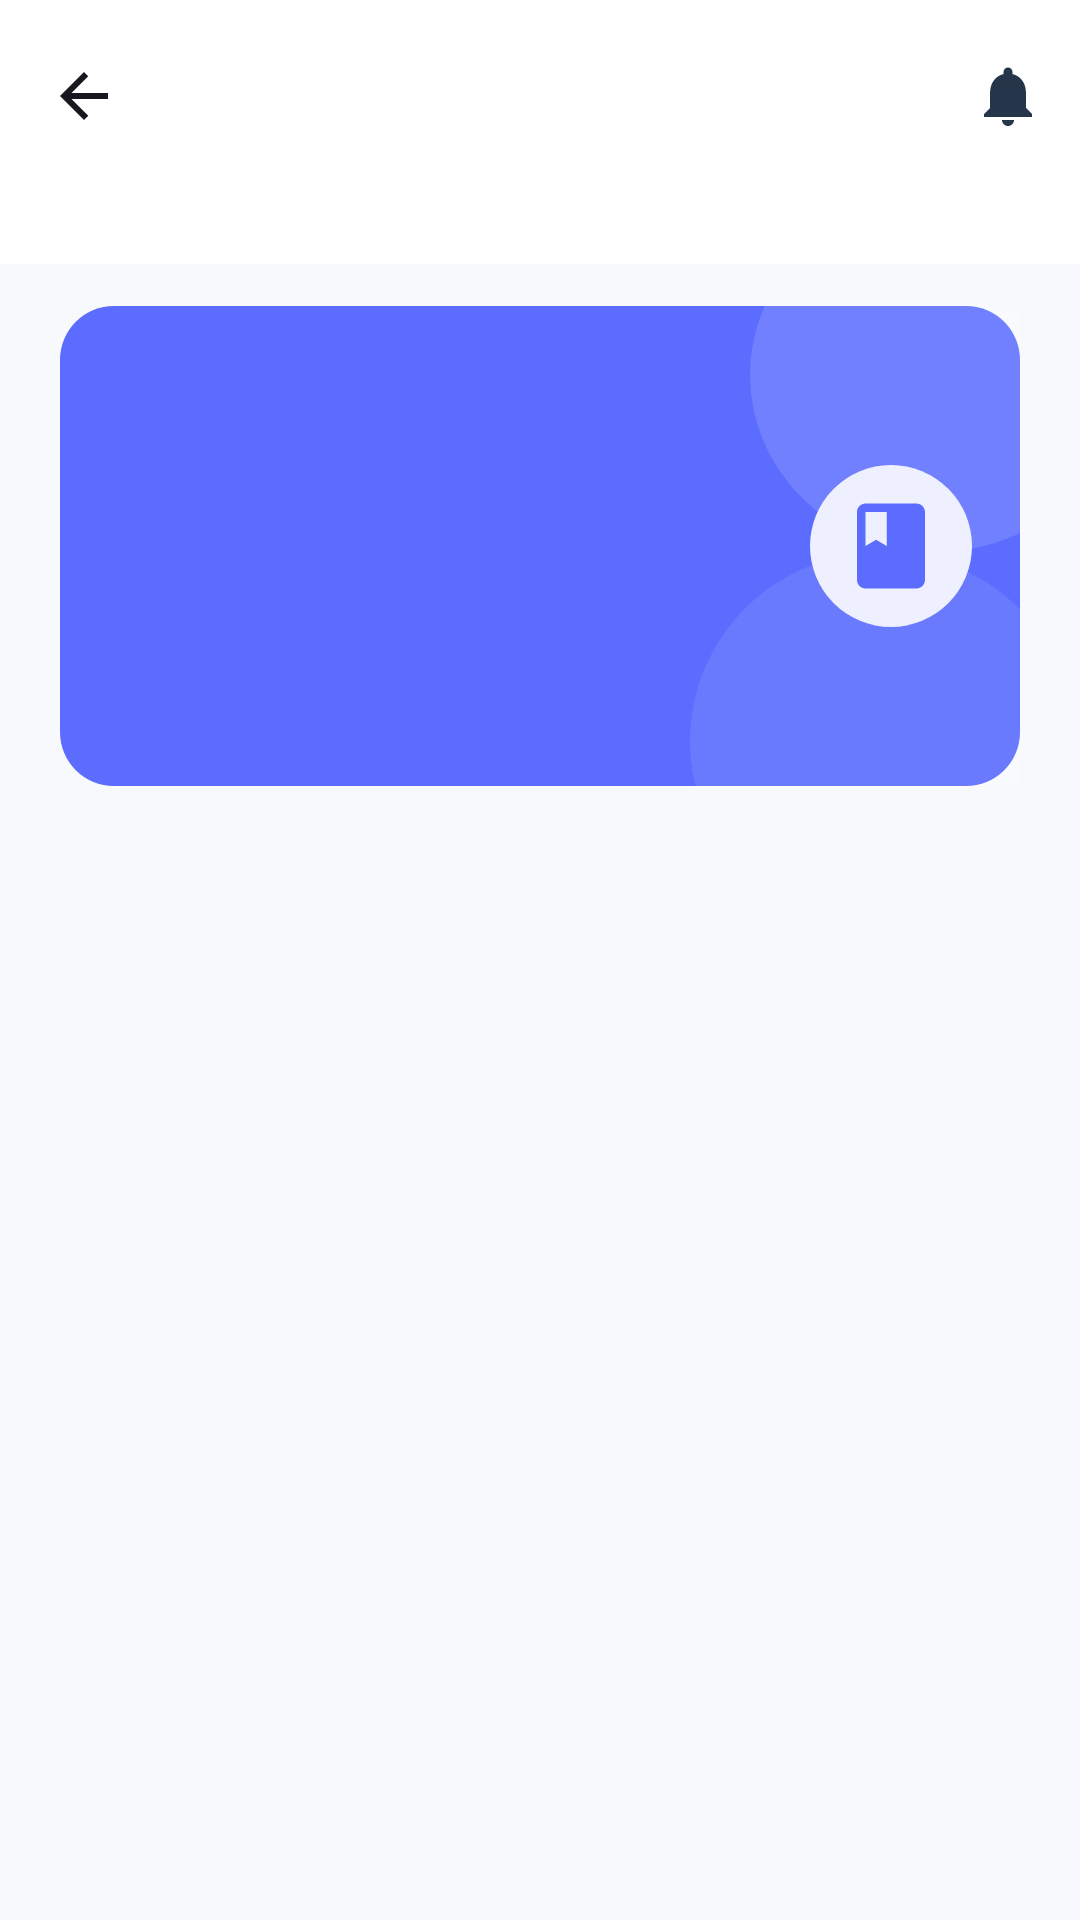

Icon bounding boxes for this 1080w x 1920h phone screenshot, format box(x1, y1, x2, y2):
course: box(857, 503, 925, 589)
